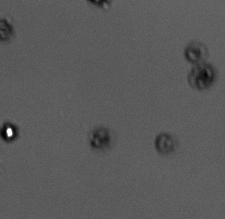Dead Cell: (189, 64, 216, 90), (90, 127, 113, 148), (155, 133, 176, 153), (1, 17, 16, 45), (185, 43, 205, 63), (85, 1, 114, 10)
Living Cell: (1, 122, 18, 142)
